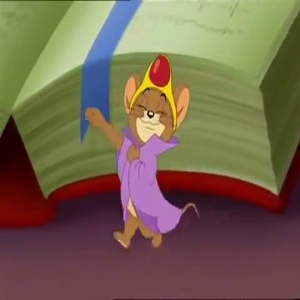Jerry: (112, 53, 191, 144)
